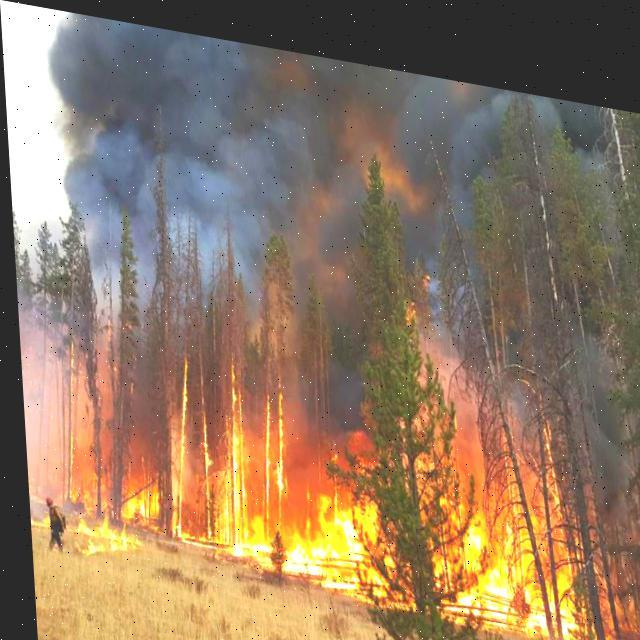Fire: (278, 460, 604, 634), (159, 346, 277, 560)
